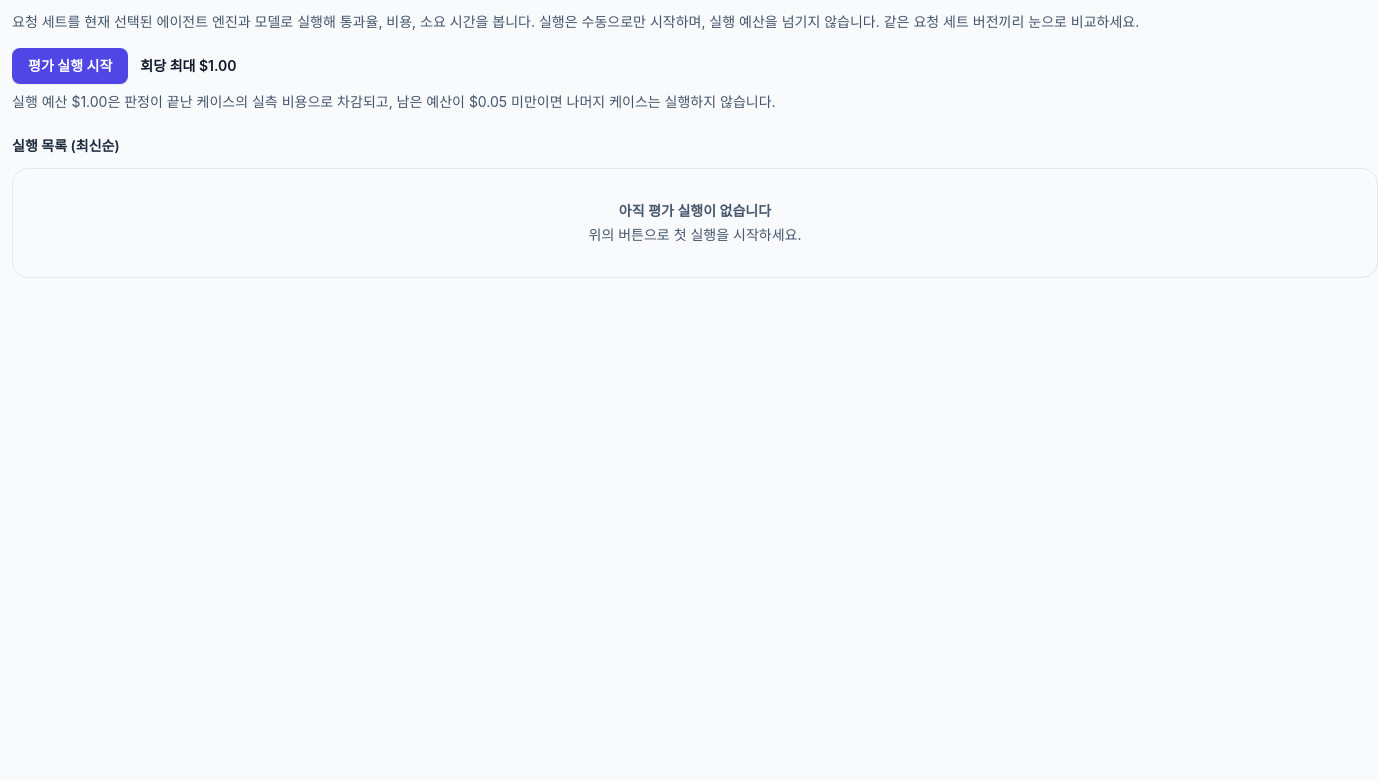
Test: EvalRunsPanel start confirmation — focus › returns focus to the start button after a start that is refused (422) and leaves it enabled
This screenshot has width=1378, height=780.
Click the button "평가 실행 시작" at point(70, 66), box [12,48,128,84]
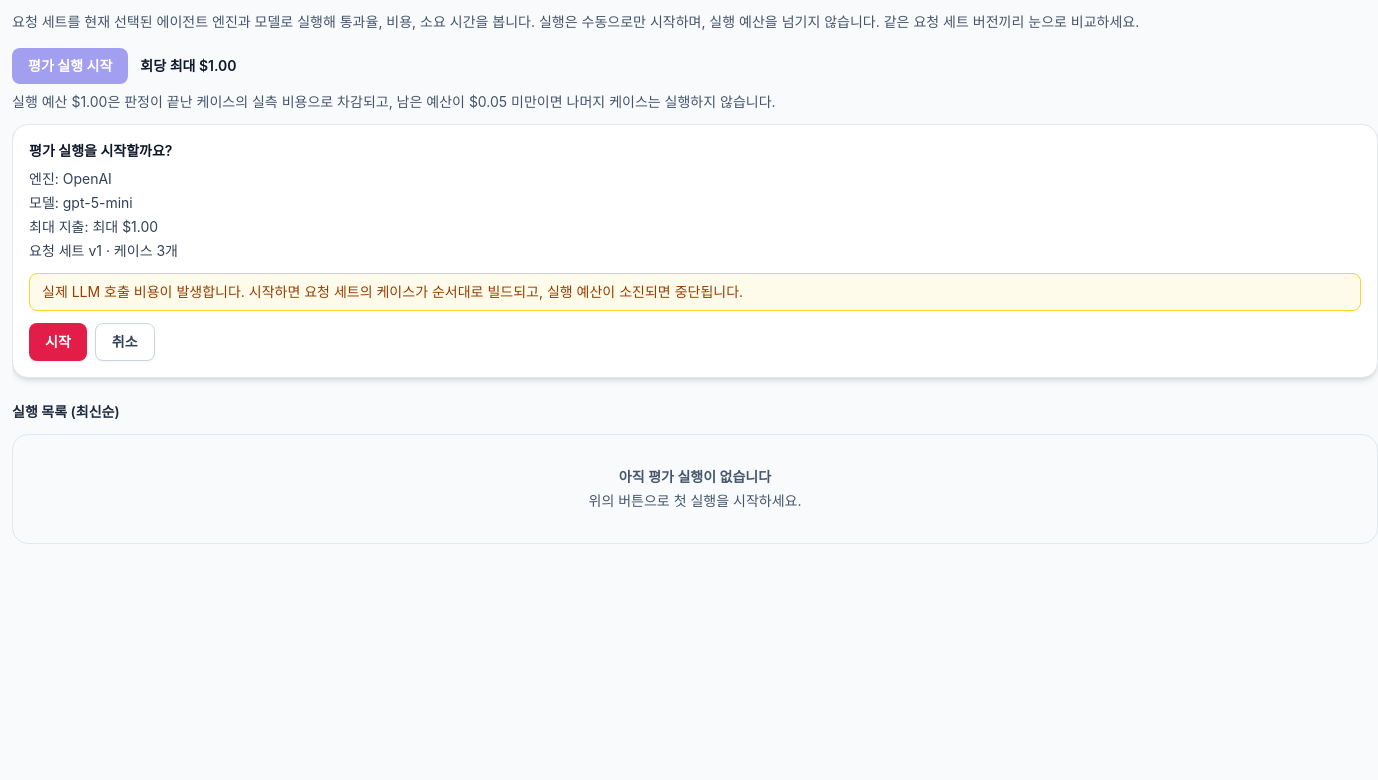
Click the button "시작" at point(58, 342), box [29,323,87,361]
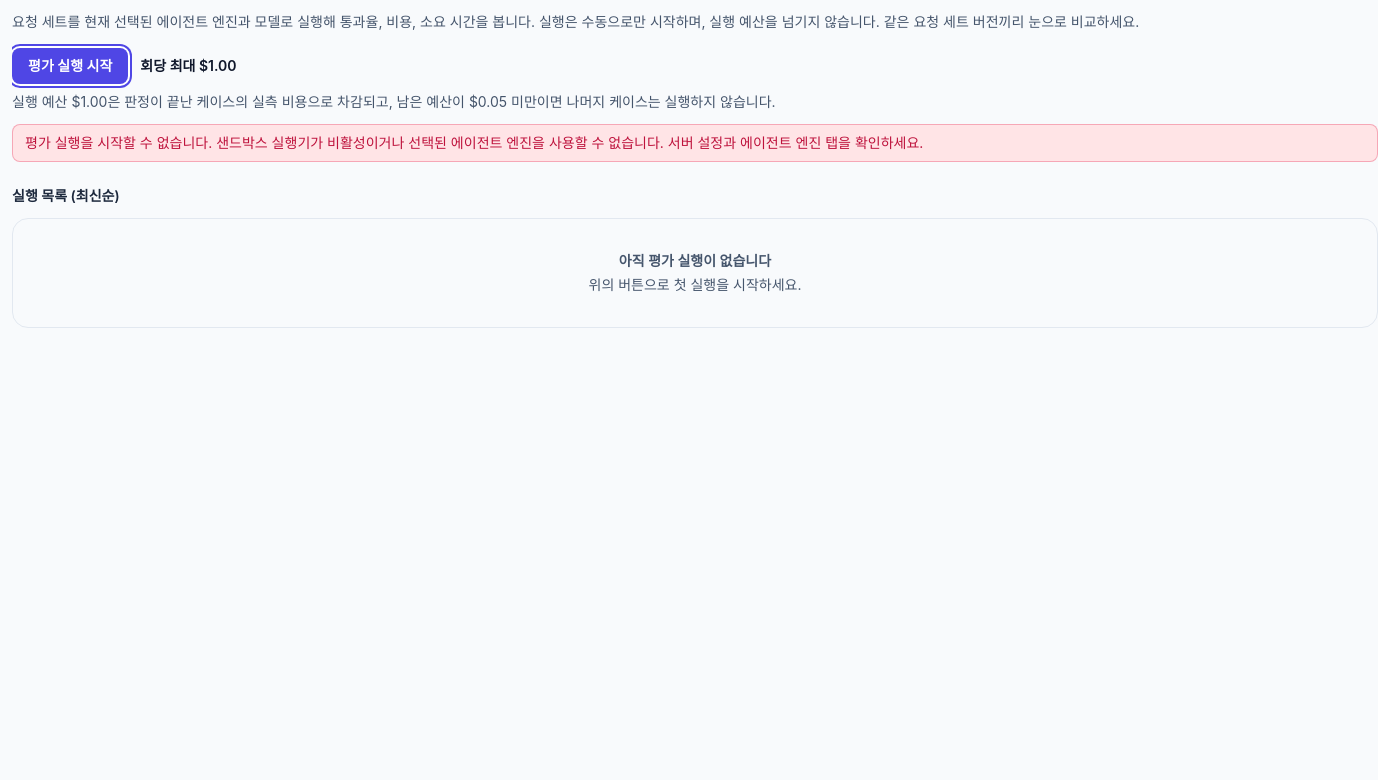
Expected: the text "평가 실행을 시작할 수 없습니다" is shown, [25,134,923,151]
